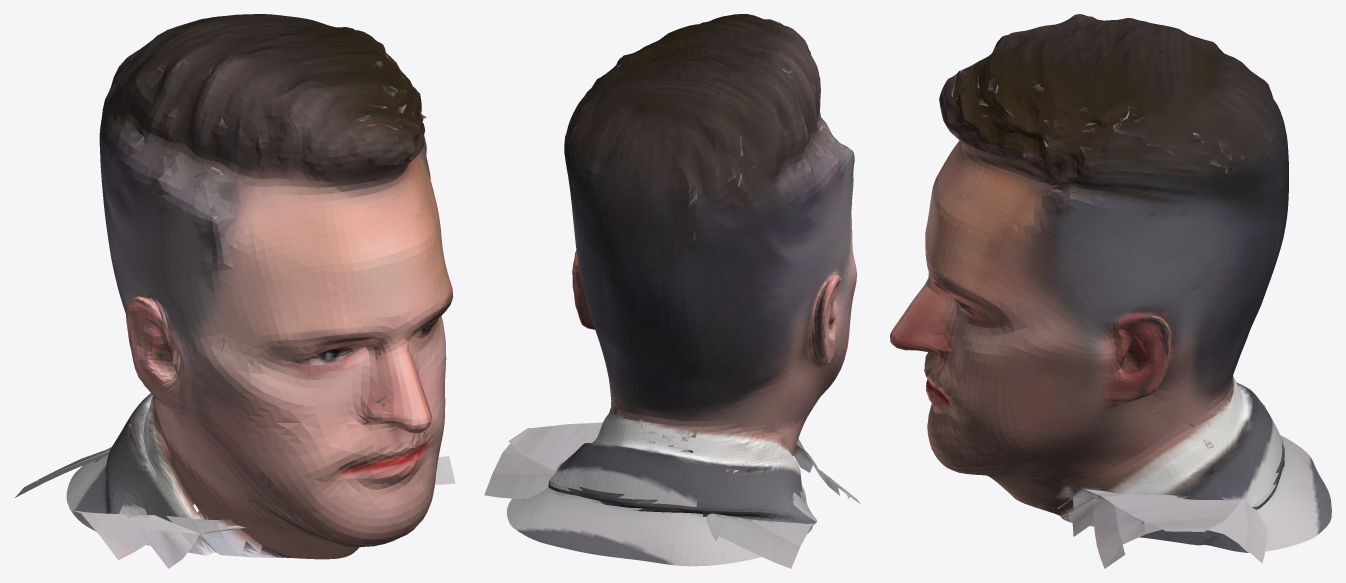
Rendered from Mr_Chapman.glb.
The picture shows the model from 3 angles, left to right: view 1: azimuth 30°, elevation 25°; view 2: azimuth 150°, elevation 25°; view 3: azimuth 270°, elevation 25°; orthographic projection. The views are drawn at different scales.
Parts seen in each view (by area): view 1: skibs-f17e11ec-9c7a-4385-8bb5-b9ef29394599.001; view 2: skibs-f17e11ec-9c7a-4385-8bb5-b9ef29394599.001; view 3: skibs-f17e11ec-9c7a-4385-8bb5-b9ef29394599.001.
Boxes of the visible parts, left/top/right/bottom form: skibs-f17e11ec-9c7a-4385-8bb5-b9ef29394599.001: left=15, top=14, right=455, bottom=568; skibs-f17e11ec-9c7a-4385-8bb5-b9ef29394599.001: left=484, top=14, right=860, bottom=568; skibs-f17e11ec-9c7a-4385-8bb5-b9ef29394599.001: left=890, top=14, right=1331, bottom=568.
Bounding box in the file's own units: 5.21 × 6.78 × 6.05.
Materials: 1 (1 with a texture image).
